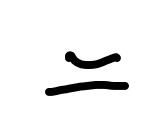eqv: (46, 51, 129, 96)
